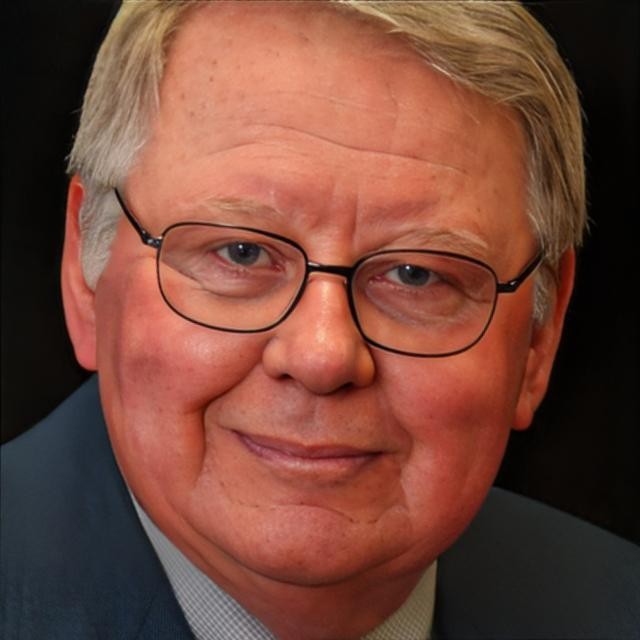content: (96, 0, 538, 585)
